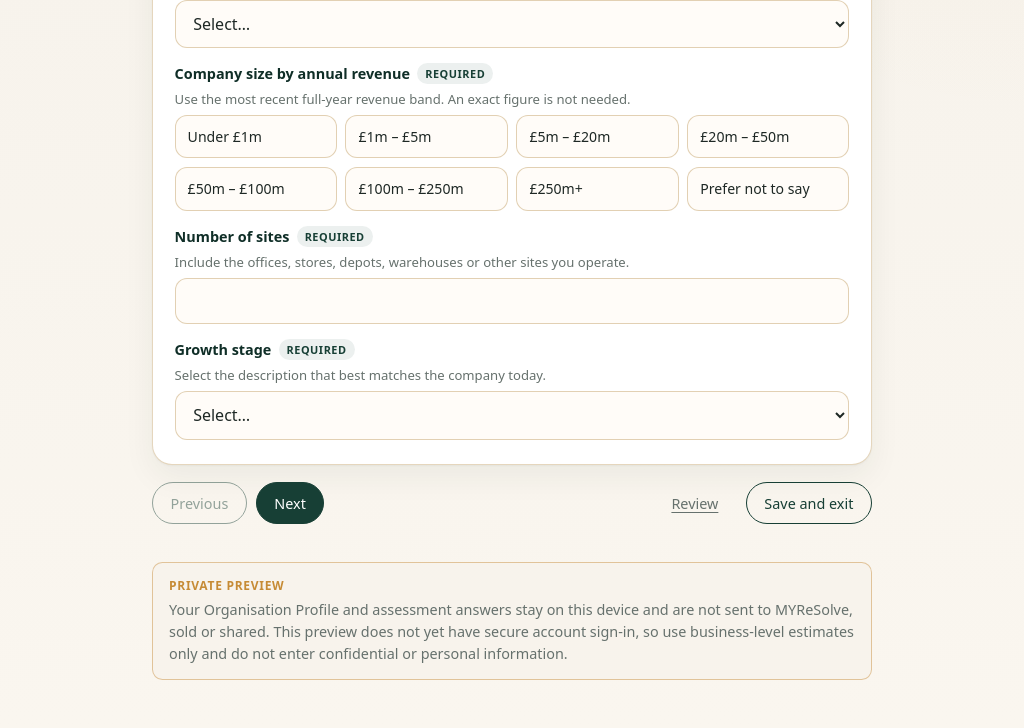
OrganisationProfileApp › keeps Organisation Profile numeric placeholders free of fake zero values
(page scrolled)
Click the button with test id "profile-next": (290, 503) [256,482,324,524]
(page scrolled)
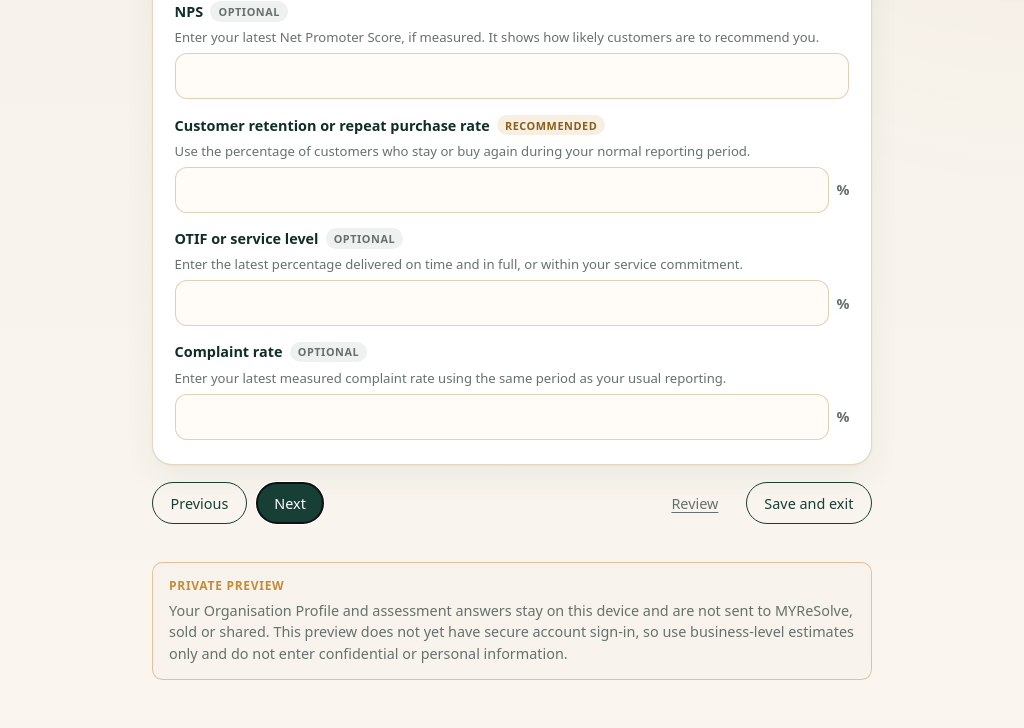
Now the number field with test id "customers.customerRetentionPercent" is not empty, box [175,167,829,213]
Now the number field with test id "customers.serviceLevelPercent" is not empty, box [175,280,829,326]
Now the number field with test id "customers.complaintRatePercent" is not empty, box [175,394,829,440]
Click the button with test id "profile-next": (290, 503) [256,482,324,524]
(page scrolled)
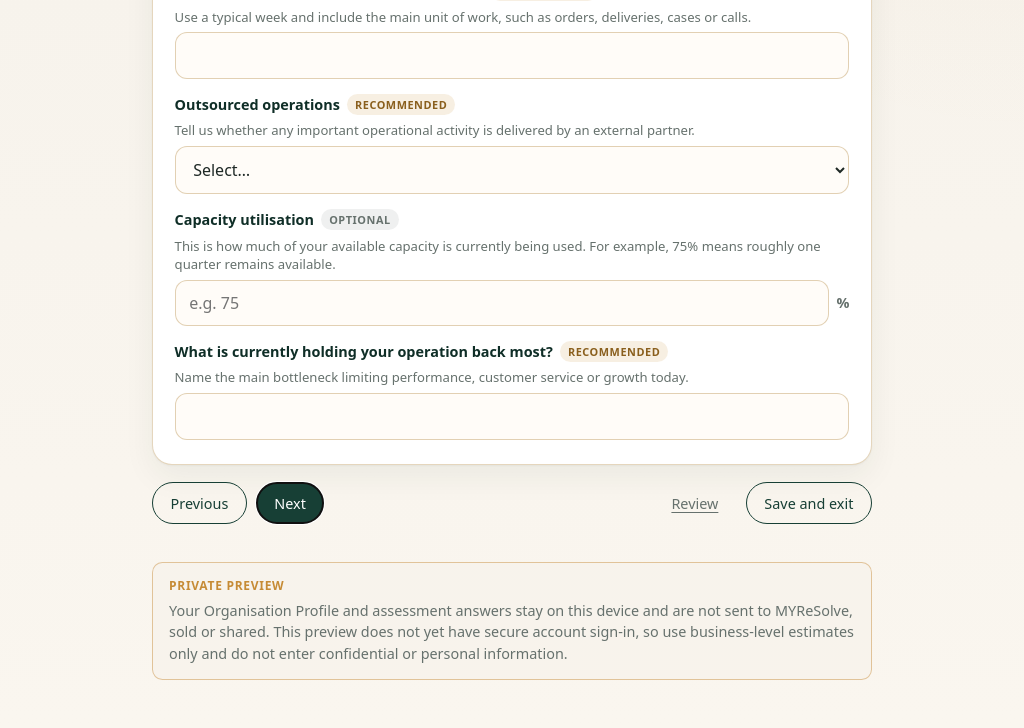
Now the number field with test id "operations.capacityUtilisationPercent" is not empty, box [175,280,829,326]
Click the button with test id "profile-next": (290, 503) [256,482,324,524]
(page scrolled)
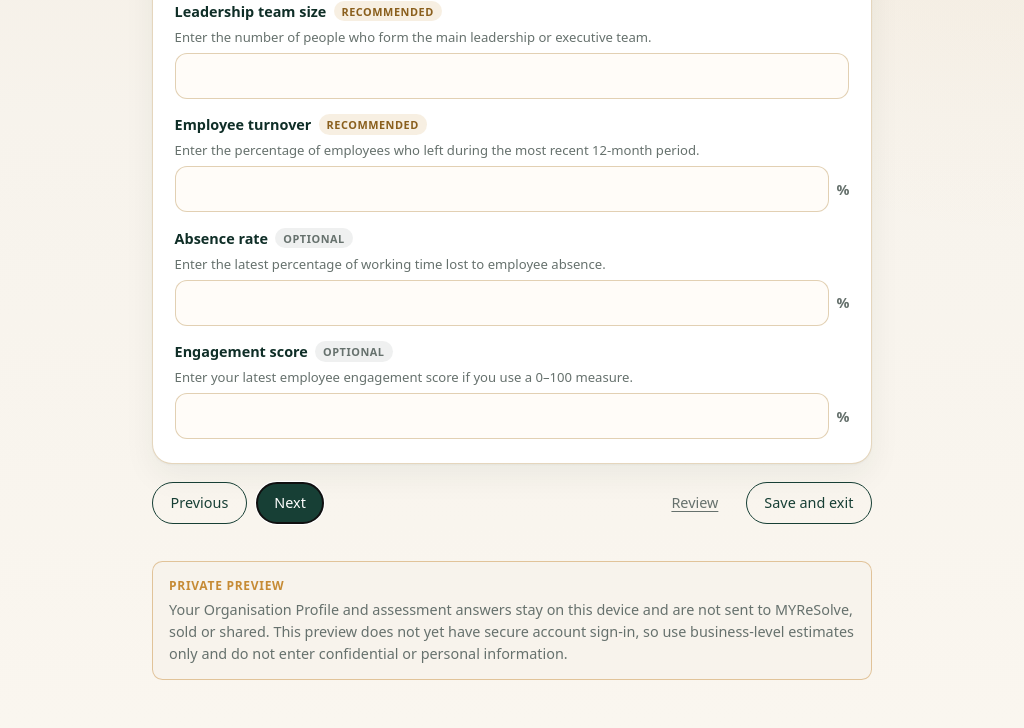
Now the number field with test id "people.engagementScore" is not empty, box [175,393,829,439]
Now the number field with test id "people.employeeTurnoverPercent" is not empty, box [175,166,829,212]
Now the number field with test id "people.absenceRatePercent" is not empty, box [175,280,829,326]
